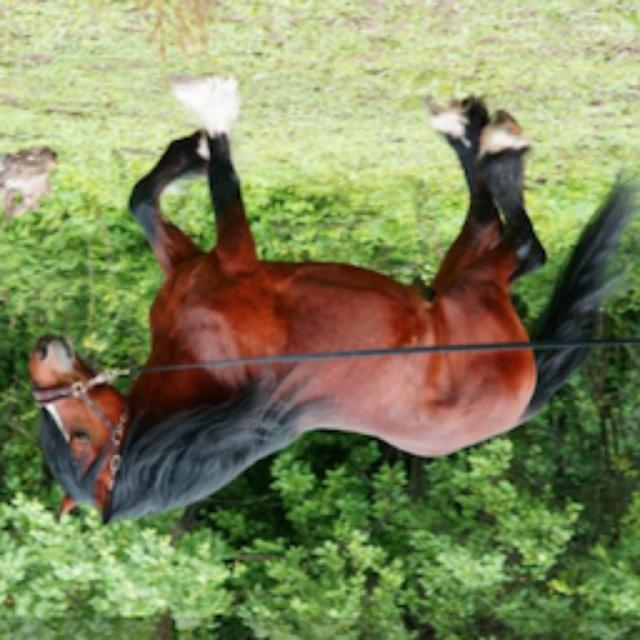Horse: (20, 70, 638, 535)
